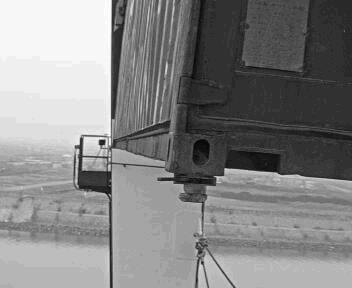twist_lock_1: (167, 168, 223, 207)
